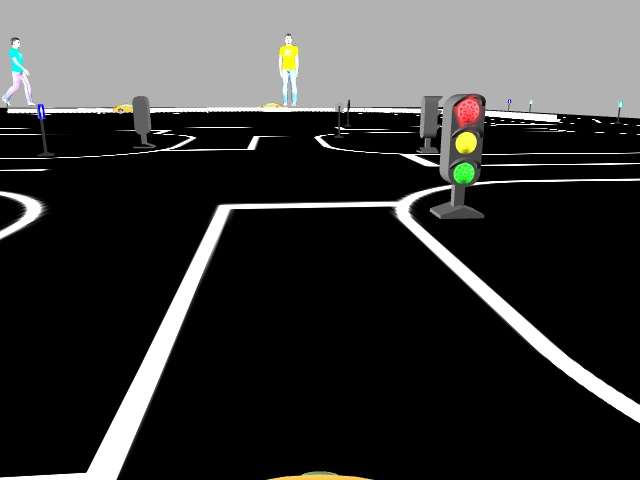TrafficLight: (439, 94, 488, 187)
